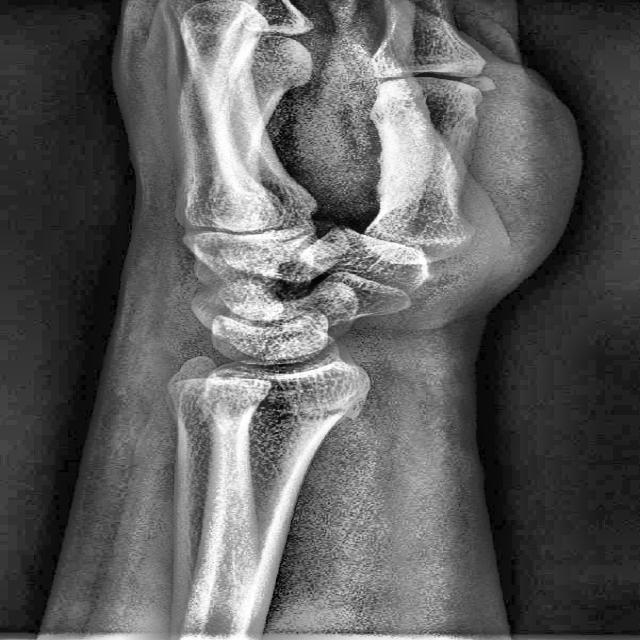line: (273, 393, 364, 424)
